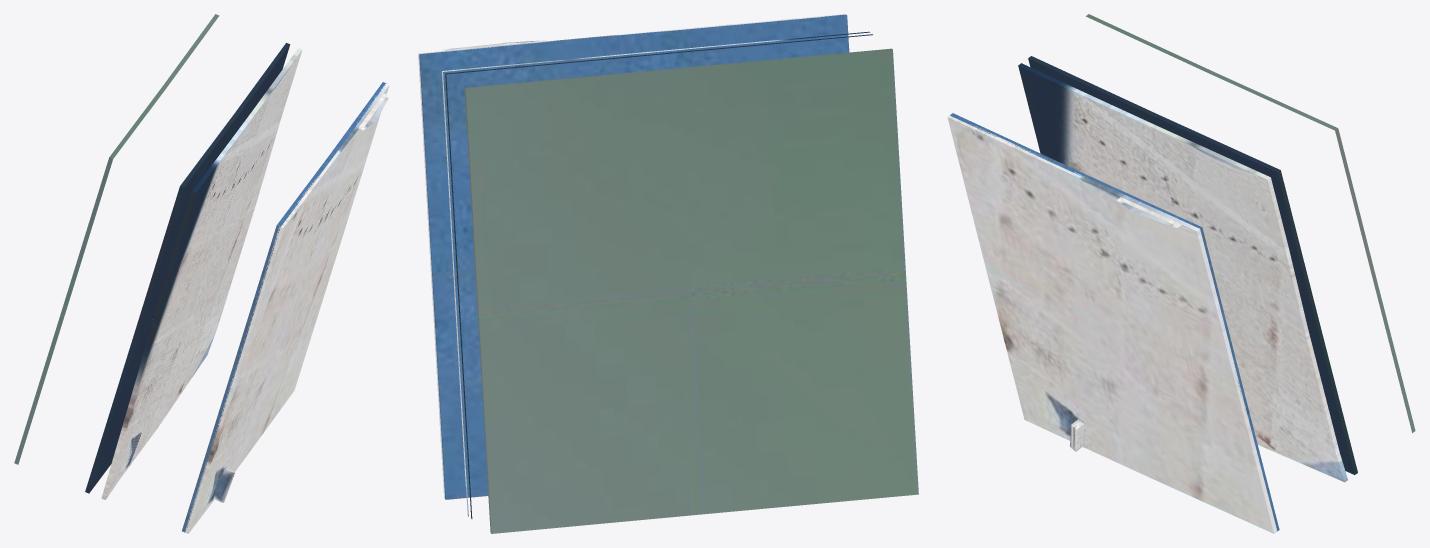
Rendered from congresso_tile_192.glb.
The picture shows the model from 3 angles, left to right: view 1: azimuth 30°, elevation 25°; view 2: azimuth 150°, elevation 25°; view 3: azimuth 270°, elevation 25°; orthographic projection. The views are drawn at different scales.
Bounding box in the file's own units: 46.85 × 42.17 × 46.7.
Materials: 2 (2 with a texture image).
